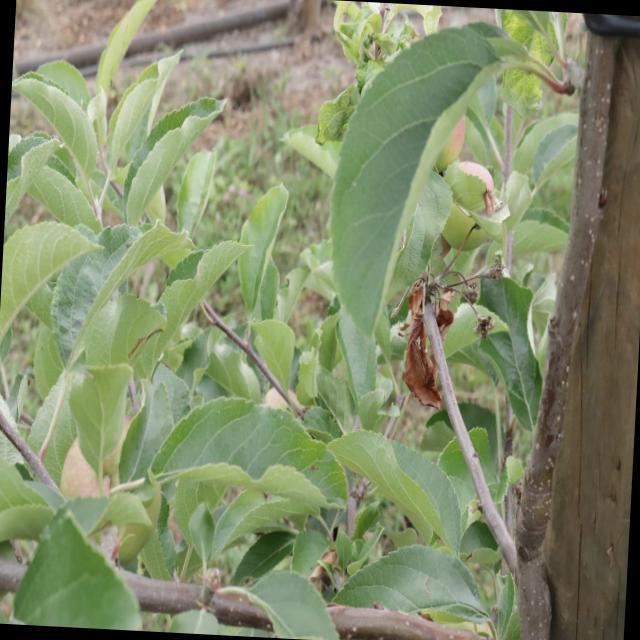-FireBlight-: (404, 276, 462, 407)
